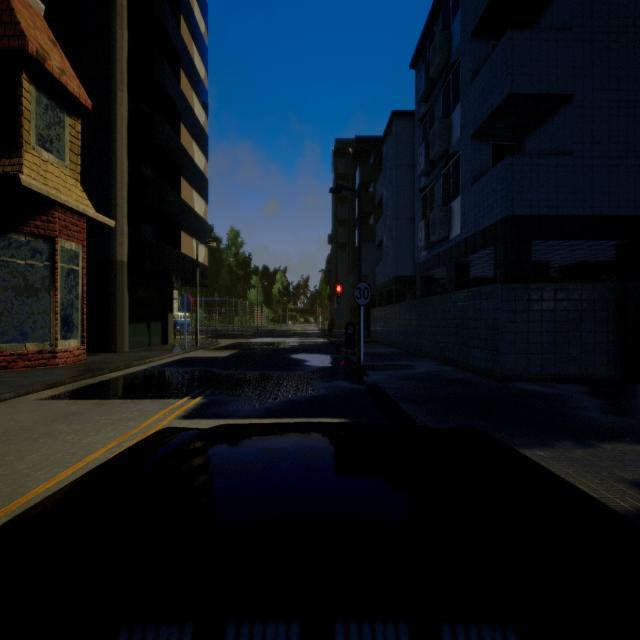Speed Limit -30-: (352, 280, 374, 308)
